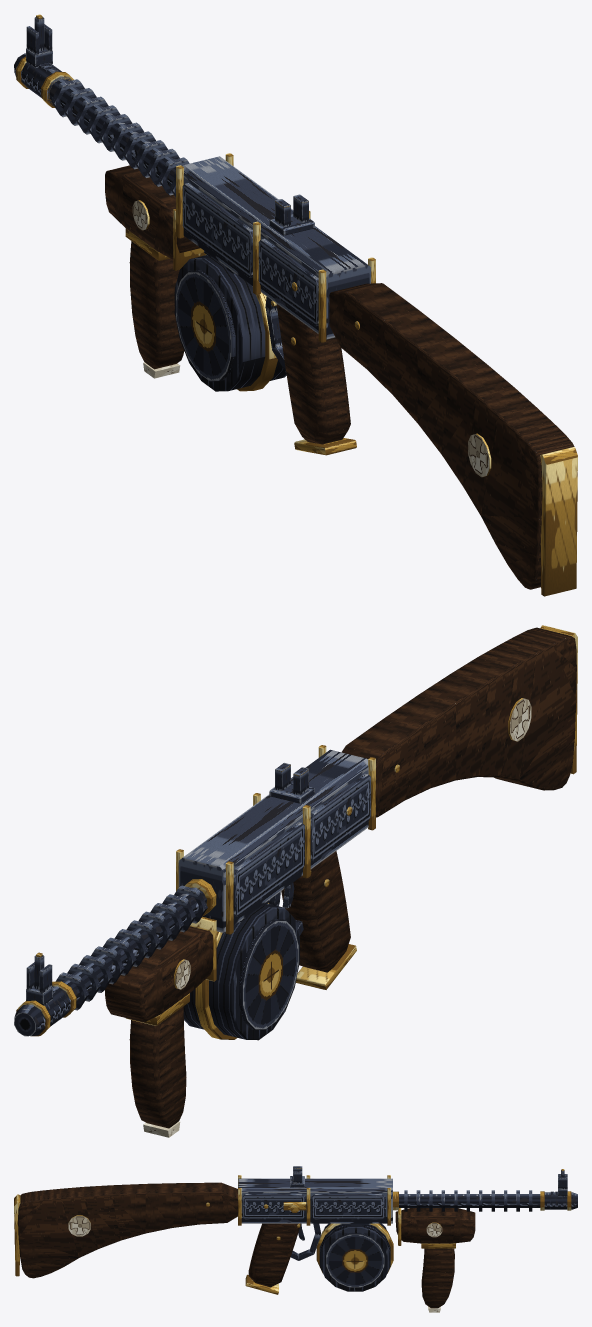
File: smg_drum_base.glb
3 views of the same model, one above another, from view 1: azimuth 30°, elevation 25°; view 2: azimuth 150°, elevation 25°; view 3: azimuth 270°, elevation 25° (orthographic). The views are drawn at different scales.
Visible parts, largest first — view 1: furniture, receiver, magazine; view 2: furniture, receiver, magazine; view 3: furniture, receiver, magazine, cocking_handle.
Part boxes in pixels (x1,y1,x2,y2): furniture: (105,165,577,596); receiver: (14,14,375,372); magazine: (174,250,286,391); furniture: (105,625,577,1137); receiver: (14,745,375,1036); magazine: (183,899,299,1040); furniture: (14,1182,475,1312); receiver: (238,1166,577,1260); magazine: (316,1223,393,1291); cocking_handle: (283,1202,306,1212).
Bounding box in the file's own units: 0.059 × 0.2045 × 0.747.
Materials: 2 (2 with a texture image).
